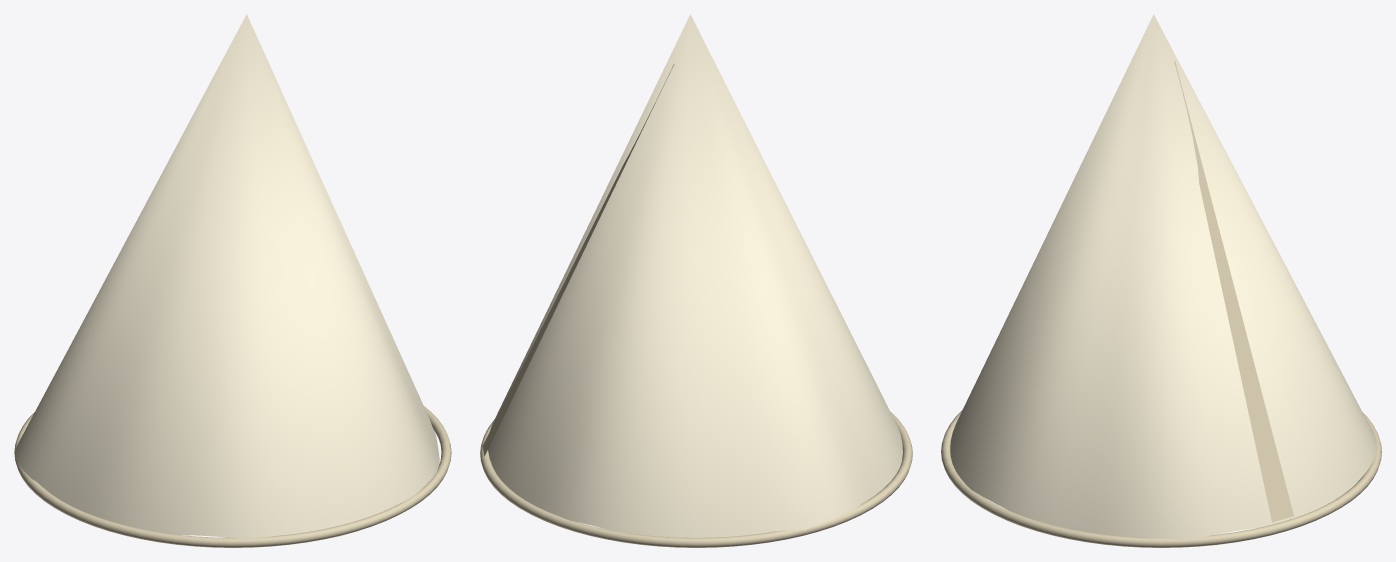
The model's file is paper_nose_cone.glb.
The picture shows the model from 3 angles, left to right: view 1: azimuth 30°, elevation 25°; view 2: azimuth 150°, elevation 25°; view 3: azimuth 270°, elevation 25°; orthographic projection.
Visible parts, largest first — view 1: Paper_Nose_Cone_Body, Paper_Nose_Cone_Lower_Edge; view 2: Paper_Nose_Cone_Body, Paper_Nose_Cone_Lower_Edge, Paper_Nose_Cone_Overlap_Seam; view 3: Paper_Nose_Cone_Body, Paper_Nose_Cone_Overlap_Seam, Paper_Nose_Cone_Lower_Edge.
Part boxes in pixels (left/top/right/bottom): Paper_Nose_Cone_Body: left=15, top=14, right=439, bottom=539; Paper_Nose_Cone_Lower_Edge: left=14, top=406, right=451, bottom=547; Paper_Nose_Cone_Body: left=488, top=14, right=902, bottom=537; Paper_Nose_Cone_Lower_Edge: left=480, top=411, right=912, bottom=547; Paper_Nose_Cone_Overlap_Seam: left=482, top=64, right=674, bottom=456; Paper_Nose_Cone_Body: left=950, top=14, right=1376, bottom=539; Paper_Nose_Cone_Overlap_Seam: left=1174, top=61, right=1293, bottom=522; Paper_Nose_Cone_Lower_Edge: left=941, top=411, right=1381, bottom=547.
Size of the model in its own units: 0.686 by 0.77 by 0.686.
